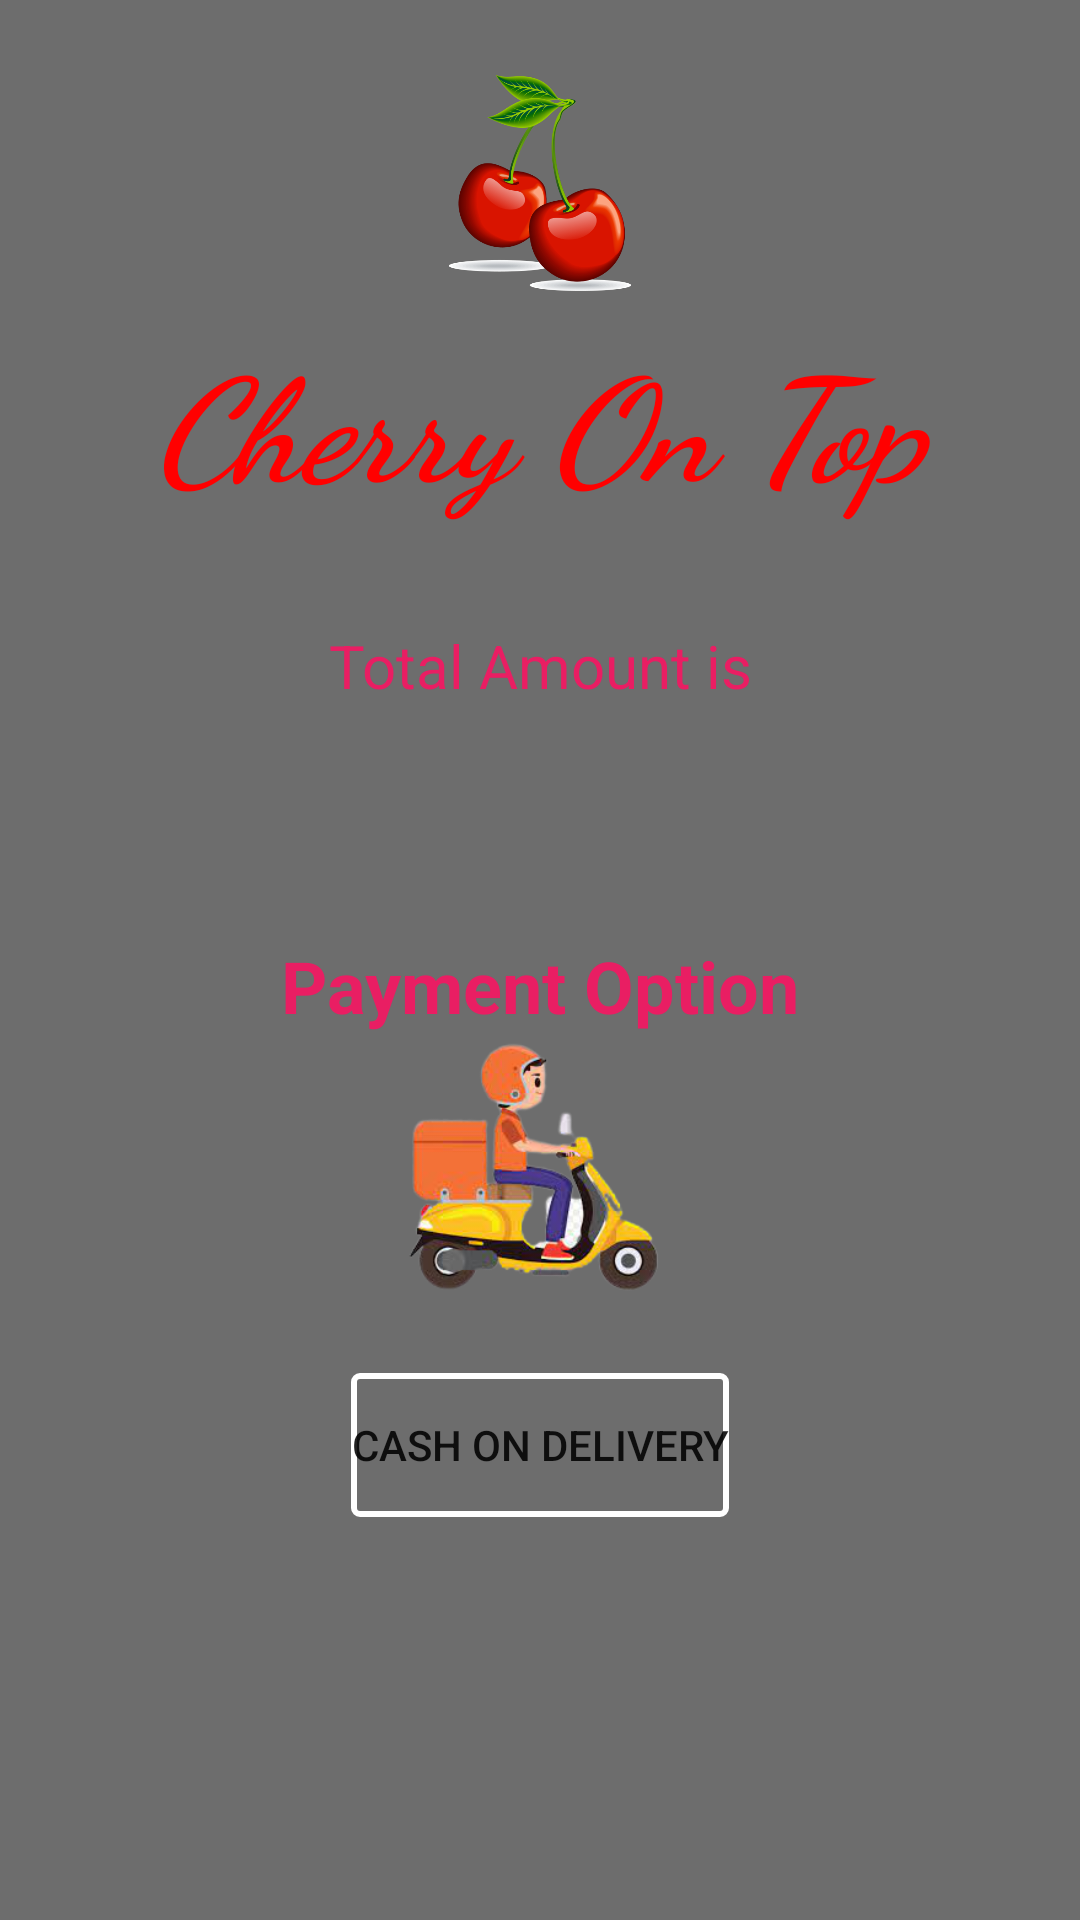

Icon bounding boxes for this 1080w x 1920h phone screenshot, format (x1, y1, x2, y2):
deliverpic: (410, 1045, 657, 1289)
